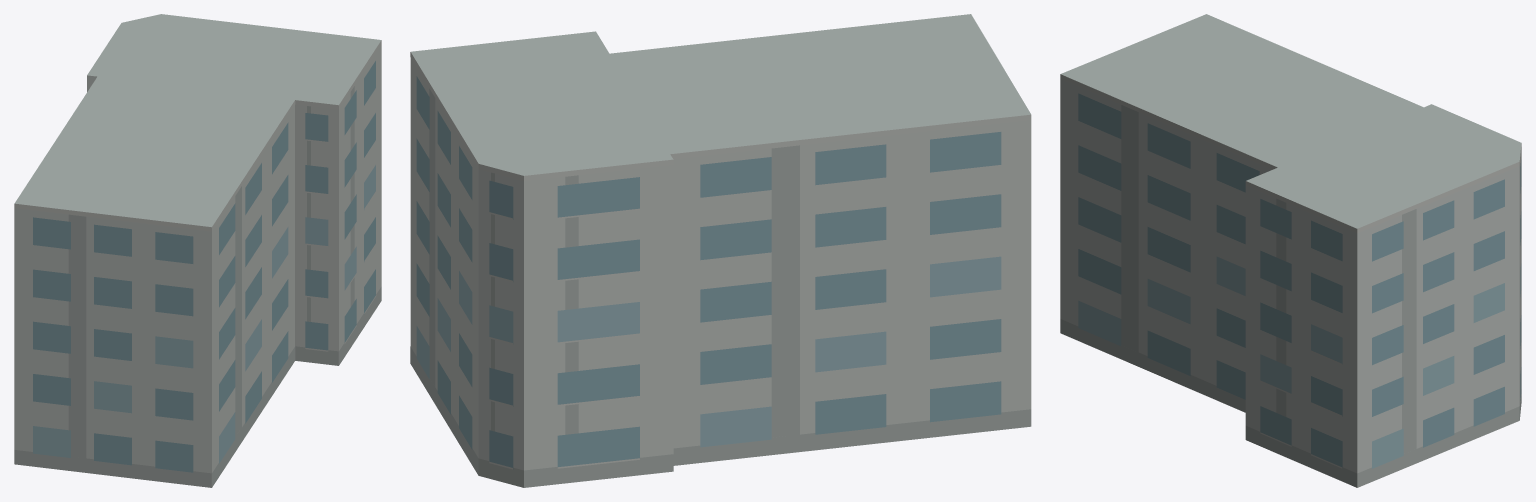
Rendered from survey-upis-32891633.glb.
3 renders of one model, left to right at view 1: azimuth 30°, elevation 25°; view 2: azimuth 150°, elevation 25°; view 3: azimuth 270°, elevation 25°, orthographic. The views are drawn at different scales.
Visible parts, largest first — view 1: survey-upis-32891633.tmp; view 2: survey-upis-32891633.tmp; view 3: survey-upis-32891633.tmp.
Part boxes in pixels (left/top/right/bottom): survey-upis-32891633.tmp: left=14, top=14, right=381, bottom=487; survey-upis-32891633.tmp: left=410, top=14, right=1031, bottom=487; survey-upis-32891633.tmp: left=1060, top=14, right=1521, bottom=487.
Bounding box in the file's own units: 25.08 × 14.1 × 22.75.
